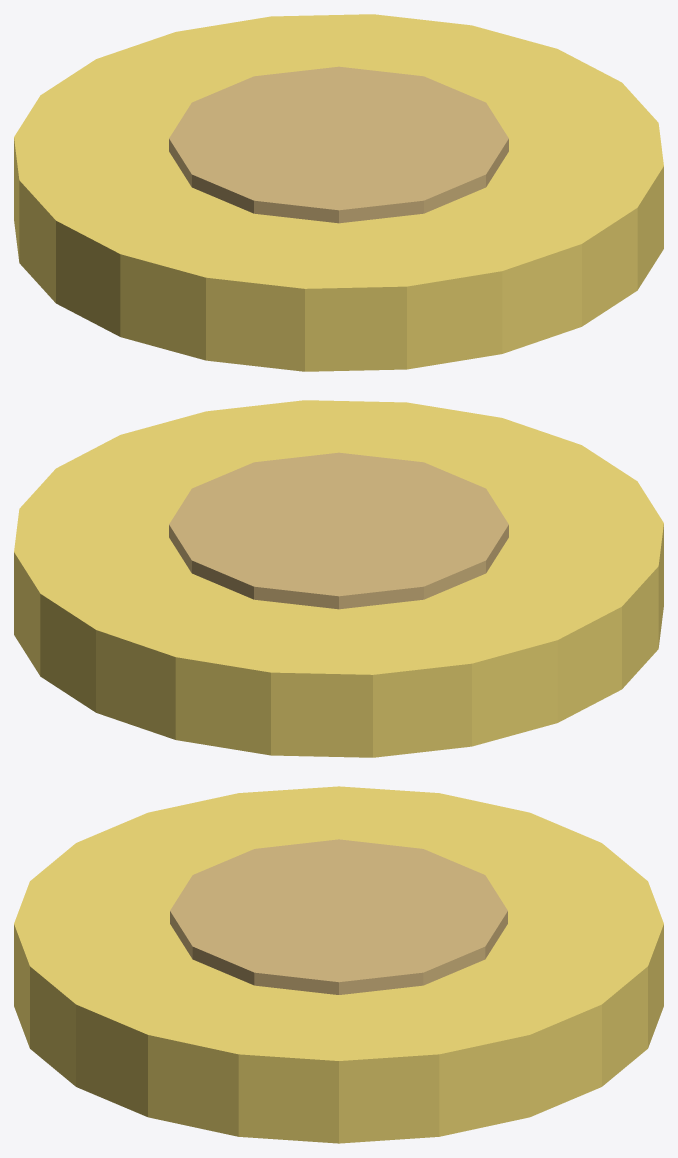
Rendered from SM_Item_Coin_01.glb.
The picture shows the model from 3 angles, top to bottom: view 1: azimuth 30°, elevation 25°; view 2: azimuth 150°, elevation 25°; view 3: azimuth 270°, elevation 25°; orthographic projection.
Visible parts, largest first — view 1: SM_Coin, SM_Coin_Emblem; view 2: SM_Coin, SM_Coin_Emblem; view 3: SM_Coin, SM_Coin_Emblem.
Boxes of the visible parts, <box> form: SM_Coin: <box>14,14,663,371</box>; SM_Coin_Emblem: <box>169,66,508,223</box>; SM_Coin: <box>14,400,663,757</box>; SM_Coin_Emblem: <box>169,452,508,609</box>; SM_Coin: <box>14,786,663,1143</box>; SM_Coin_Emblem: <box>170,839,507,994</box>.
Size of the model in its own units: 0.5 by 0.081 by 0.5.
